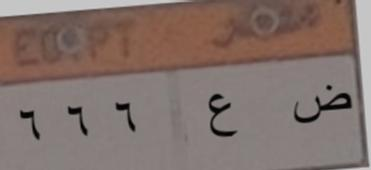6: (105, 90, 144, 143), (10, 98, 54, 144), (57, 96, 97, 146)
ain: (197, 83, 247, 146)
daad: (288, 78, 356, 138)
